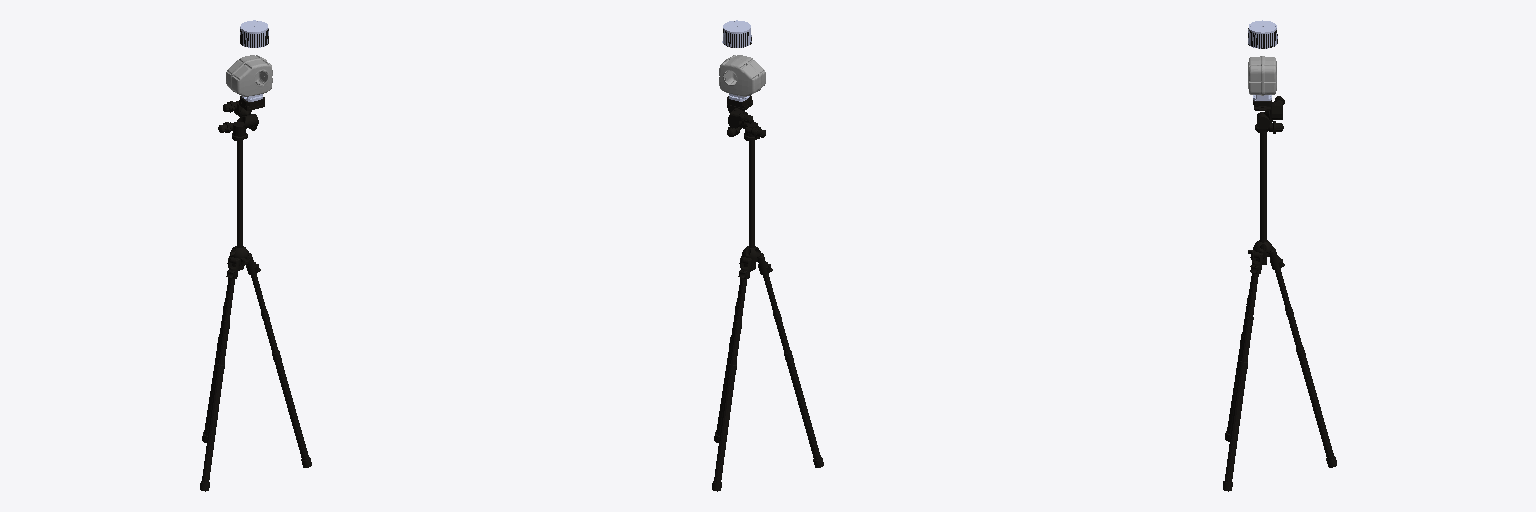
URDF robot description (mapping_custom_description/models/ptu_150cm_150):
<?xml version="1.0" encoding="utf-8"?>
<robot
  name="mapping_custom_description/models/ptu_150cm_150">
  <link
    name="tripod_floor_link">
<!--    <inertial>
      <origin
        xyz="0.0116512703539461 0.00676451776494707 1.00479073768505"
        rpy="0 0 0" />
      <mass
        value="1.53251141021217" />
      <inertia
        ixx="0.010948021270794"
        ixy="9.02301838507766E-05"
        ixz="6.18144580822199E-06"
        iyy="0.0109831454619846"
        iyz="6.58150914995151E-05"
        izz="0.00113207159797084" />
    </inertial> -->
    <visual>
      <origin
        xyz="0 0 0"
        rpy="0 0 0" />
      <geometry>
        <mesh
          filename="package://mapping_custom_description/models/ptu_150cm/meshes/tripod150_link.STL" />
      </geometry>
      <material
        name="">
        <color
          rgba="0.12941 0.12156 0.10980 1" />
      </material> 
    </visual>
    <collision>
      <origin
        xyz="0 0 0"
        rpy="0 0 0" />
      <geometry>
        <mesh
          filename="package://mapping_custom_description/models/ptu_150cm/meshes/tripod150_link.STL" />
      </geometry>
    </collision>
  </link>
  <link
    name="tripod_mount_link">
    <inertial>
      <origin
        xyz="-0.00294888404648491 -6.05530632036143E-05 -0.0113074480746116"
        rpy="0 0 0" />
      <mass
        value="0.0428916155324412" />
      <inertia
        ixx="1.76694609785255E-05"
        ixy="4.6959447239717E-11"
        ixz="3.99467658788442E-08"
        iyy="1.66228817088112E-05"
        iyz="2.28441583305406E-08"
        izz="3.03142313419027E-05" />
    </inertial>
    <visual>
      <origin
        xyz="0 0 0"
        rpy="0 0 0" />
      <geometry>
        <mesh
          filename="package://mapping_custom_description/models/ptu_150cm/meshes/base_link.STL" />
      </geometry>
      <material
        name="">
        <color
          rgba="0.792156862745098 0.819607843137255 0.933333333333333 1" />
      </material>
    </visual>
    <collision>
      <origin
        xyz="0 0 0"
        rpy="0 0 0" />
      <geometry>
        <mesh
          filename="package://mapping_custom_description/models/ptu_150cm/meshes/base_link.STL" />
      </geometry>
    </collision>
  </link>
  <joint
    name="tripod_mount_joint"
    type="fixed">
    <origin
      xyz="0.0555 -0.00249999999999993 1.50025"
      rpy="-3.13992626619705 0 0" />
    <parent
      link="tripod_floor_link" />
    <child
      link="tripod_mount_link" />
    <axis
      xyz="0 0 0" />
  </joint>
  <link
    name="pan_axis_link">
    <inertial>
      <origin
        xyz="-0.0121030866226688 -0.000281812640567285 -0.086953249152671"
        rpy="0 0 0" />
      <mass
        value="0.187655806543262" />
      <inertia
        ixx="0.000382616024685332"
        ixy="6.27961339053485E-07"
        ixz="2.32605787826298E-05"
        iyy="0.000811069025604346"
        iyz="-4.78192440846029E-07"
        izz="0.000535110393438021" />
    </inertial>
    <visual>
      <origin
        xyz="0 0 0"
        rpy="0 0 0" />
      <geometry>
        <mesh
          filename="package://mapping_custom_description/models/ptu_150cm/meshes/body_link.STL" />
      </geometry>
      <material
        name="">
        <color
          rgba="0.65882 0.65882 0.65882 1" />
      </material>
    </visual>
    <collision>
      <origin
        xyz="0 0 0"
        rpy="0 0 0" />
      <geometry>
        <mesh
          filename="package://mapping_custom_description/models/ptu_150cm/meshes/body_link.STL" />
      </geometry>
    </collision>
  </link>
  <joint
    name="pan"
    type="continuous">
    <origin
      xyz="0 0 0"
      rpy="0 0 0" />
    <parent
      link="tripod_mount_link" />
    <child
      link="pan_axis_link" />
    <axis
      xyz="0 0 1" />
  </joint>
  <link
    name="tilt_axis_link">
    <inertial>
      <origin
        xyz="2.01714754242965E-06 0.0911639032521732 -0.000794434330623268"
        rpy="0 0 0" />
      <mass
        value="0.488902153241594" />
      <inertia
        ixx="0.000534143812531387"
        ixy="3.72935995125924E-09"
        ixz="4.16984603062599E-09"
        iyy="0.000782711804529407"
        iyz="6.383123568449E-07"
        izz="0.000405681293590009" />
    </inertial>
    <visual>
      <origin
        xyz="0 0 0"
        rpy="0 0 0" />
      <geometry>
        <mesh
          filename="package://mapping_custom_description/models/ptu_150cm/meshes/lidar_link.STL" />
      </geometry>
      <material
        name="">
        <color
          rgba="0.792156862745098 0.819607843137255 0.933333333333333 1" />
      </material>
    </visual>
    <collision>
      <origin
        xyz="0 0 0"
        rpy="0 0 0" />
      <geometry>
        <mesh
          filename="package://mapping_custom_description/models/ptu_150cm/meshes/lidar_link.STL" />
      </geometry>
    </collision>
  </link>
  <joint
    name="tilt"
    type="continuous">
    <origin
      xyz="0.00724999999999979 -0.000162194803630762 -0.0973331016588213"
      rpy="-1.57246271418764 0 0" />
    <parent
      link="pan_axis_link" />
    <child
      link="tilt_axis_link" />
    <axis
      xyz="0 0 1" />
  </joint>
  <link
    name="lidar_glass_link">
    <inertial>
      <origin
        xyz="1.38777878078145E-17 0.155336120457131 -0.0011558000000001"
        rpy="0 0 0" />
      <mass
        value="0.50410763159155" />
      <inertia
        ixx="0.000492148530325034"
        ixy="-3.75650996219919E-21"
        ixz="-1.6009660703309E-20"
        iyy="0.000714723657266138"
        iyz="-3.98182397870821E-20"
        izz="0.000492148530325034" />
    </inertial>
    <visual>
      <origin
        xyz="0 0 0"
        rpy="0 0 0" />
      <geometry>
        <mesh
          filename="package://mapping_custom_description/models/ptu_150cm/meshes/lidar_mid_link.STL" />
      </geometry>
      <material
        name="">
        <color
          rgba="0.12941 0.12156 0.10980 1" />
      </material>
    </visual>
    <collision>
      <origin
        xyz="0 0 0"
        rpy="0 0 0" />
      <geometry>
        <mesh
          filename="package://mapping_custom_description/models/ptu_150cm/meshes/lidar_mid_link.STL" />
      </geometry>
    </collision>
  </link>
  <joint
    name="lidar_tilt_glass_joint"
    type="fixed">
    <origin
      xyz="0 0 0"
      rpy="0 0 0" />
    <parent
      link="tilt_axis_link" />
    <child
      link="lidar_glass_link" />
    <axis
      xyz="0 0 0" />
  </joint>
  <link
    name="lidar_cap_link">
    <inertial>
      <origin
        xyz="1.20473686706646E-05 0.18754767111886 -0.00116784736867076"
        rpy="0 0 0" />
      <mass
        value="0.0598161953971965" />
      <inertia
        ixx="4.08069706031179E-05"
        ixy="-5.87751329870024E-10"
        ixz="-8.68166828010215E-12"
        iyy="8.11138431350567E-05"
        iyz="5.877513298701E-10"
        izz="4.08069706031179E-05" />
    </inertial>
    <visual>
      <origin
        xyz="0 0 0"
        rpy="0 0 0" />
      <geometry>
        <mesh
          filename="package://mapping_custom_description/models/ptu_150cm/meshes/lidar_top_link.STL" />
      </geometry>
      <material
        name="">
        <color
          rgba="0.792156862745098 0.819607843137255 0.933333333333333 1" />
      </material>
    </visual>
    <collision>
      <origin
        xyz="0 0 0"
        rpy="0 0 0" />
      <geometry>
        <mesh
          filename="package://mapping_custom_description/models/ptu_150cm/meshes/lidar_top_link.STL" />
      </geometry>
    </collision>
  </link>
  <joint
    name="lidar_glass_cap_joint"
    type="fixed">
    <origin
      xyz="0 0 0"
      rpy="0 0 0" />
    <parent
      link="lidar_glass_link" />
    <child
      link="lidar_cap_link" />
    <axis
      xyz="0 0 0" />
  </joint>
  <link
    name="os_sensor">
    <inertial>
      <origin
        xyz="-1.73472347597681E-17 0 0.0671361204571312"
        rpy="0 0 0" />
      <mass
        value="0.50410763159155" />
      <inertia
        ixx="0.000492148530325034"
        ixy="-1.60185464325454E-20"
        ixz="-1.09918697856152E-19"
        iyy="0.000492148530325034"
        iyz="1.10854988868351E-20"
        izz="0.000714723657266138" />
    </inertial>
    <visual>
      <origin
        xyz="0 0 0"
        rpy="0 0 0" />
      <geometry>
        <mesh
          filename="package://mapping_custom_description/models/ptu_150cm/meshes/sensor_cf_link.STL" />
      </geometry>
      <material
        name="">
        <color
          rgba="0.792156862745098 0.819607843137255 0.933333333333333 1" />
      </material>
    </visual>
    <collision>
      <origin
        xyz="0 0 0"
        rpy="0 0 0" />
      <geometry>
        <mesh
          filename="package://mapping_custom_description/models/ptu_150cm/meshes/sensor_cf_link.STL" />
      </geometry>
    </collision>
  </link>
  <joint
    name="sensor_cf_joint"
    type="fixed">
    <origin
      xyz="0 0.0881999999999998 -0.00115580000000007"
      rpy="1.5707963267949 -3.1415926535897 3.1415926535897" />
    <parent
      link="tilt_axis_link" />
    <child
      link="os_sensor" />
    <axis
      xyz="0 0 1" />
    <limit effort="-1" lower="0.0" upper="0.0" velocity="-1"/>
  </joint>
  <link
    name="os_lidar">
    <inertial>
      <origin
        xyz="-1.20473686706394E-05 1.20473686706507E-05 0.0210516711188606"
        rpy="0 0 0" />
      <mass
        value="0.0598161953971965" />
      <inertia
        ixx="4.08069706031179E-05"
        ixy="-8.68166828008474E-12"
        ixz="5.87751329897216E-10"
        iyy="4.08069706031179E-05"
        iyz="-5.87751329871377E-10"
        izz="8.11138431350567E-05" />
    </inertial>
    <visual>
      <origin
        xyz="0 0 0"
        rpy="0 0 0" />
      <geometry>
        <mesh
          filename="package://mapping_custom_description/models/ptu_150cm/meshes/lidar_cf_link.STL" />
      </geometry>
      <material
        name="">
        <color
          rgba="0.792156862745098 0.819607843137255 0.933333333333333 1" />
      </material>
    </visual>
    <collision>
      <origin
        xyz="0 0 0"
        rpy="0 0 0" />
      <geometry>
        <mesh
          filename="package://mapping_custom_description/models/ptu_150cm/meshes/lidar_cf_link.STL" />
      </geometry>
    </collision>
  </link>
  <joint
    name="lidar_cf_joint"
    type="revolute">
    <origin
      xyz="0 0 0.07829600000000001"
      rpy="0 0 3.14159265358979" />
    <parent
      link="os_sensor" />
    <child
      link="os_lidar" />
    <axis
      xyz="0 0 1" />
    <limit effort="-1" lower="0.0" upper="0.0" velocity="-1"/>
  </joint>
  <link
    name="os_imu">
    <inertial>
      <origin
        xyz="-0.00624095263132873 0.0117629526313294 0.0877026711188607"
        rpy="0 0 0" />
      <mass
        value="0.0598161953971965" />
      <inertia
        ixx="4.08069706031179E-05"
        ixy="-8.68166828008121E-12"
        ixz="-5.87751329588638E-10"
        iyy="4.08069706031179E-05"
        iyz="5.87751329871378E-10"
        izz="8.11138431350567E-05" />
    </inertial>
    <visual>
      <origin
        xyz="0 0 0"
        rpy="0 0 0" />
      <geometry>
        <mesh
          filename="package://mapping_custom_description/models/ptu_150cm/meshes/imu_cf_link.STL" />
      </geometry>
      <material
        name="">
        <color
          rgba="0.792156862745098 0.819607843137255 0.933333333333333 1" />
      </material>
    </visual>
    <collision>
      <origin
        xyz="0 0 0"
        rpy="0 0 0" />
      <geometry>
        <mesh
          filename="package://mapping_custom_description/models/ptu_150cm/meshes/imu_cf_link.STL" />
      </geometry>
    </collision> 
  </link>
  <joint
    name="imu_cf_joint"
    type="fixed">
    <origin
      xyz="0.006253 -0.011775 0.011645"
      rpy="0 0 0" />
    <parent
      link="os_sensor" />
    <child
      link="os_imu" />
    <!--axis
      xyz="0 0 1" /-->
  </joint>
  <link
    name="cam_1">
    <inertial>
      <origin
        xyz="0 0 0"
        rpy="0 0 0" />
      <mass
        value="0.000324412" />
      <inertia
        ixx="1.76694609785255E-05"
        ixy="4.6959447239717E-11"
        ixz="3.99467658788442E-08"
        iyy="1.66228817088112E-05"
        iyz="2.28441583305406E-08"
        izz="3.03142313419027E-05" />
    </inertial>
  </link>
  <joint
    name="cam1_joint"
    type="fixed">
    <origin
      xyz="0.115 0.0907 0"
      rpy="0 0 0" />
    <parent
      link="tilt_axis_link" />
    <child
      link="cam_1"/>
  </joint>
  <link
    name="cam_2">
    <inertial>
      <origin
        xyz="0 0 0"
        rpy="0 0 0" />
      <mass
        value="0.000324412" />
      <inertia
        ixx="1.76694609785255E-05"
        ixy="4.6959447239717E-11"
        ixz="3.99467658788442E-08"
        iyy="1.66228817088112E-05"
        iyz="2.28441583305406E-08"
        izz="3.03142313419027E-05" />
    </inertial>
  </link>
  <joint
    name="cam2_joint"
    type="fixed">
    <origin
      xyz="0.115 0.0907 0"
      rpy="0 0 0" />
    <parent
      link="tilt_axis_link" />
    <child
      link="cam_2"/>
  </joint>
  <!-- <link
    name="cam_9">
    <inertial>
      <origin
        xyz="0.06275 0.0775 1.59758"
        rpy="0 0 0" />
      <mass
        value="0.000324412" />
      <inertia
        ixx="1.76694609785255E-05"
        ixy="4.6959447239717E-11"
        ixz="3.99467658788442E-08"
        iyy="1.66228817088112E-05"
        iyz="2.28441583305406E-08"
        izz="3.03142313419027E-05" />
    </inertial>
    <collision>
      <origin
        xyz="0 0 0"
        rpy="0 0 0" />
      <geometry>
        <box>
              <size>0.03 0.03 0.03</size>
        </box>
      </geometry>
    </collision>
  </link>
  <joint
    name="cam9_joint"
    type="fixed">
    <origin
      xyz="0.06275 0.0775 1.59758"
      rpy="0 0 0" />
    <parent
      link="pan_axis_link" />
    <child
      link="cam_9" />
    <!axis
      xyz="0 0 1" />
  </joint> -->
</robot>

--- What the picture shows (computed from the rendered views, not written in the file) ---
The picture shows the robot from 3 angles, left to right: view 1: azimuth 30°, elevation 25°; view 2: azimuth 150°, elevation 25°; view 3: azimuth 270°, elevation 25°; orthographic projection.
Model mapping_custom_description/models/ptu_150cm_150 with 11 links and 10 joints (1 revolute, 2 continuous, 7 fixed), rooted at tripod_floor_link, posed all joints at 0.
Visible links, largest first — view 1: tripod_floor_link, pan_axis_link; view 2: tripod_floor_link, pan_axis_link; view 3: tripod_floor_link, pan_axis_link.
Link boxes in pixels (x1,y1,x2,y2): tripod_floor_link: (200,96,311,491); pan_axis_link: (226,55,272,96); tripod_floor_link: (712,95,823,491); pan_axis_link: (719,55,765,96); tripod_floor_link: (1223,96,1336,491); pan_axis_link: (1248,56,1276,95).
Size in the robot's own frame: 0.4721 by 0.4179 by 1.79 metres.
Meshes: 9 distinct files referenced, 8 mesh visuals loaded (8 binary STL); not drawn: 1 (reference not matched to a file when rendering).
